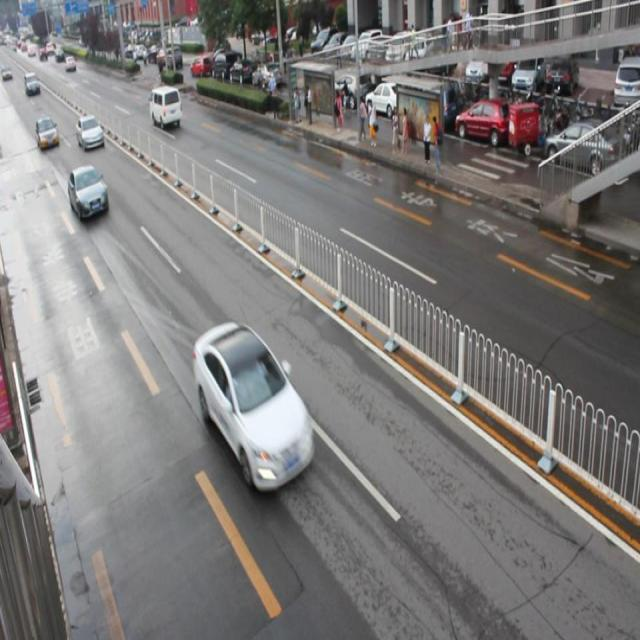car: (193, 319, 313, 489), (67, 164, 110, 222), (76, 114, 104, 150)
truck: (149, 86, 182, 127)
